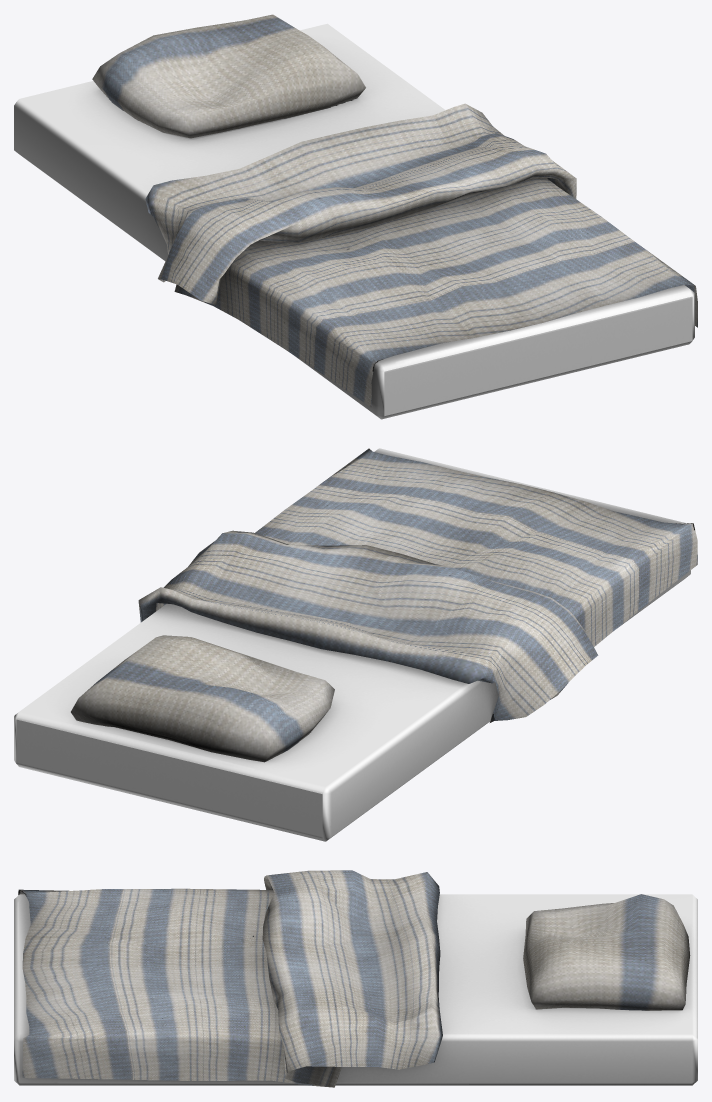
File: 0-singleMatrasMessy.fbx
The picture shows the model from 3 angles, top to bottom: view 1: azimuth 30°, elevation 25°; view 2: azimuth 150°, elevation 25°; view 3: azimuth 270°, elevation 25°; orthographic projection. The views are drawn at different scales.
Parts seen in each view (by area): view 1: singleMatrasMessy; view 2: singleMatrasMessy; view 3: singleMatrasMessy.
Boxes of the visible parts, left/top/right/bottom form: singleMatrasMessy: left=14, top=14, right=697, bottom=419; singleMatrasMessy: left=14, top=448, right=697, bottom=841; singleMatrasMessy: left=14, top=870, right=697, bottom=1087.
Bounding box in the file's own units: 2.09 × 0.5322 × 3.41.
1 material, 1 textured.
